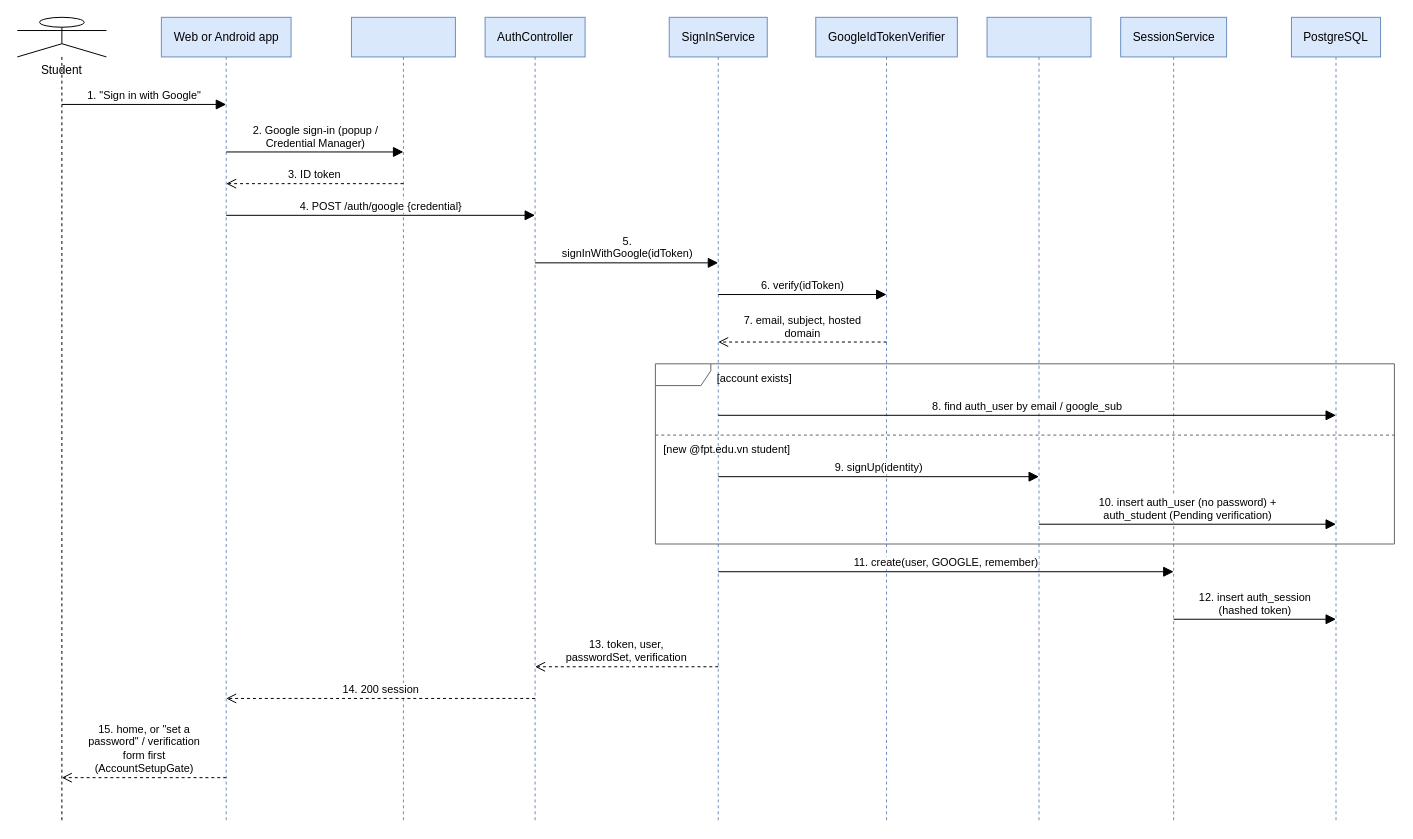
Some shapes in this 1413 by 839 pixel diagram are drawn without their labels. The shapes that lost their labels are listed below. From the top down, each one's box as (x1, y1, x2, y2) in pixels, then its label:
(350, 16, 455, 821): Google Identity
(986, 16, 1091, 821): StudentSignUp
(654, 363, 1394, 544): alt
